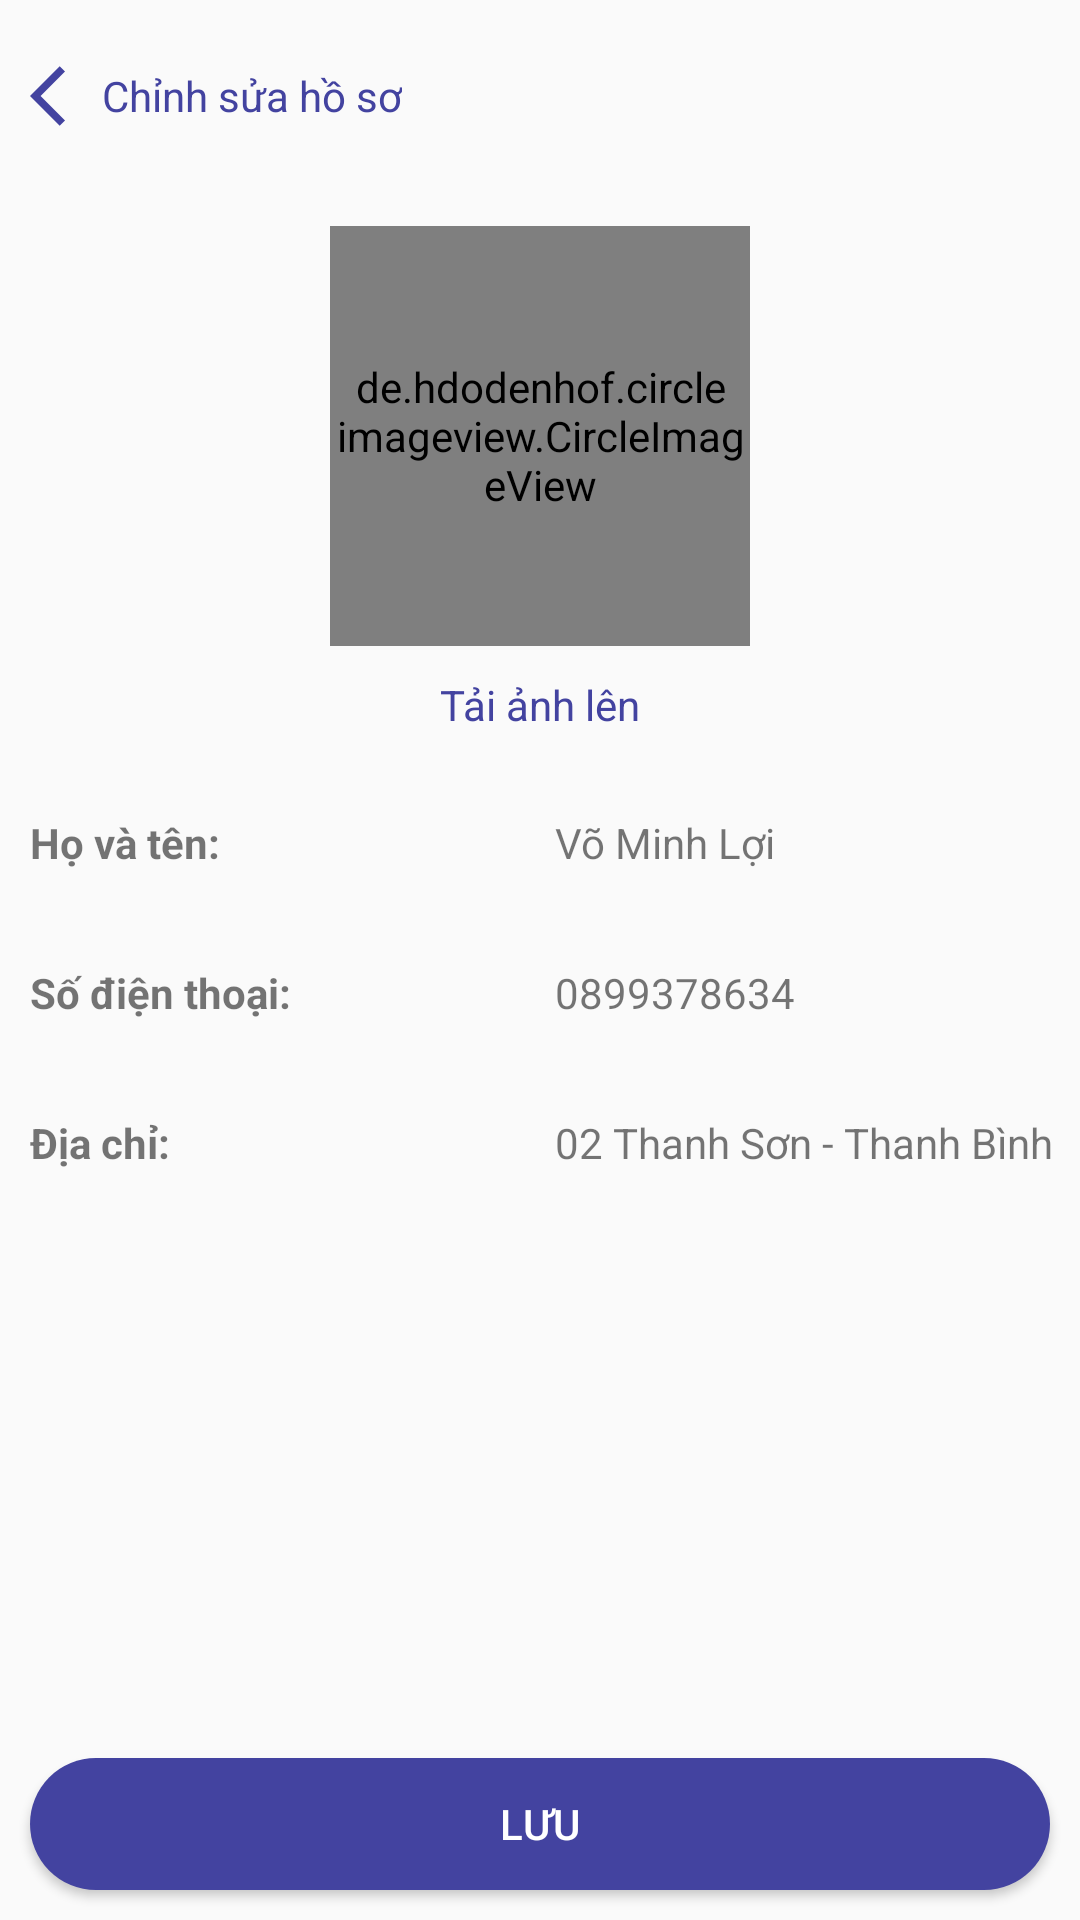

Where to tap for icons on this 1080w x 1920h app screen, as (x=x, y=y):
arrow back: (x=47, y=96)
